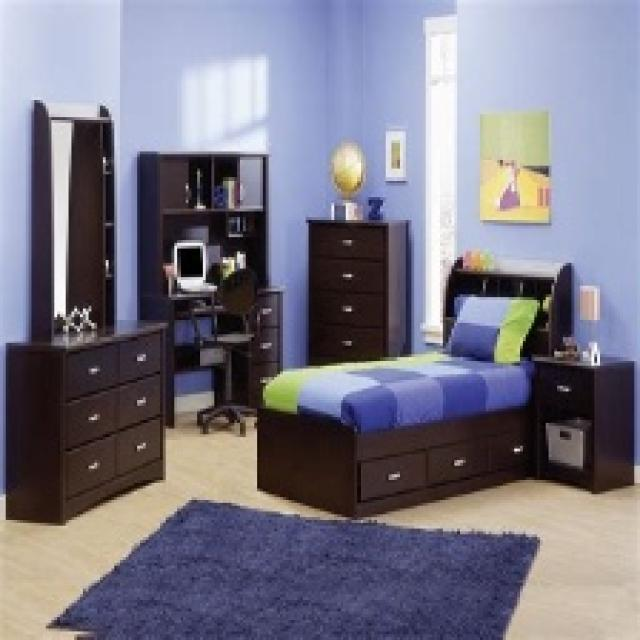Bed: (254, 252, 572, 517)
